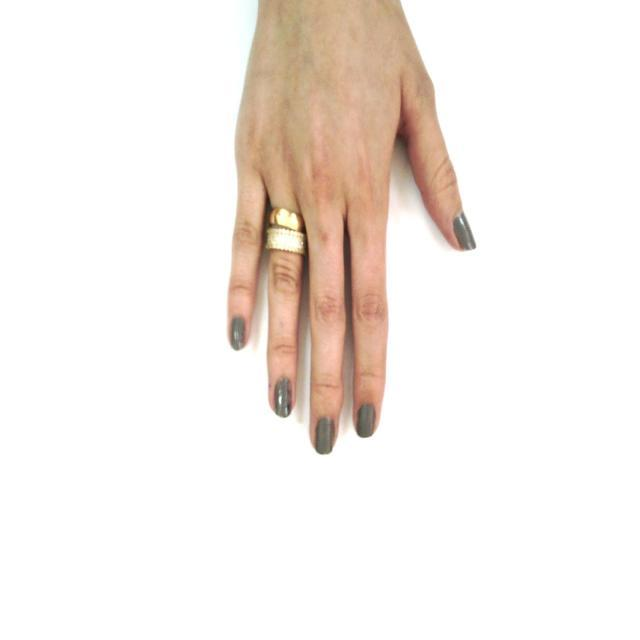Fingernail: (454, 214, 476, 250), (274, 377, 292, 416), (316, 417, 334, 454), (357, 404, 375, 437), (231, 316, 245, 349)
